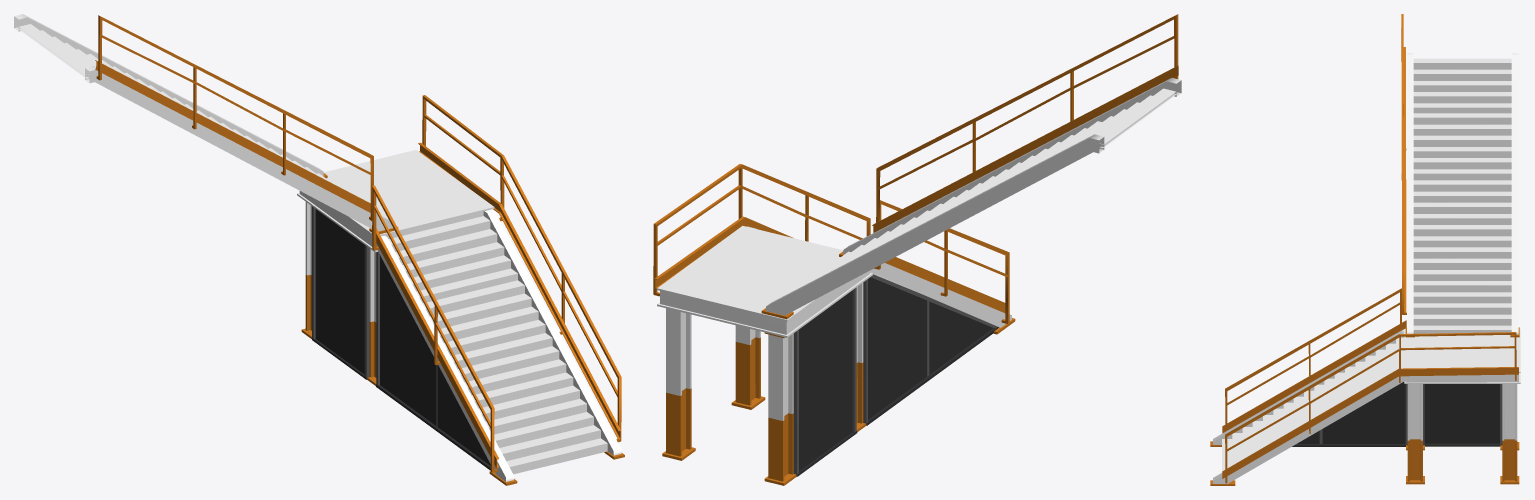
File: SM_H_Building_Tide_Stairs_03_ATLAS.fbx
3 renders of one model, left to right at view 1: azimuth 30°, elevation 25°; view 2: azimuth 150°, elevation 25°; view 3: azimuth 270°, elevation 25°, orthographic. The views are drawn at different scales.
Parts seen in each view (by area): view 1: SM_H_Building_Tide_Stairs_03_ATLAS; view 2: SM_H_Building_Tide_Stairs_03_ATLAS; view 3: SM_H_Building_Tide_Stairs_03_ATLAS.
Boxes of the visible parts, <box> form: SM_H_Building_Tide_Stairs_03_ATLAS: <box>14,14,624,485</box>; SM_H_Building_Tide_Stairs_03_ATLAS: <box>653,14,1181,485</box>; SM_H_Building_Tide_Stairs_03_ATLAS: <box>1210,14,1520,485</box>.
Bounding box in the file's own units: 823 × 727 × 850.
